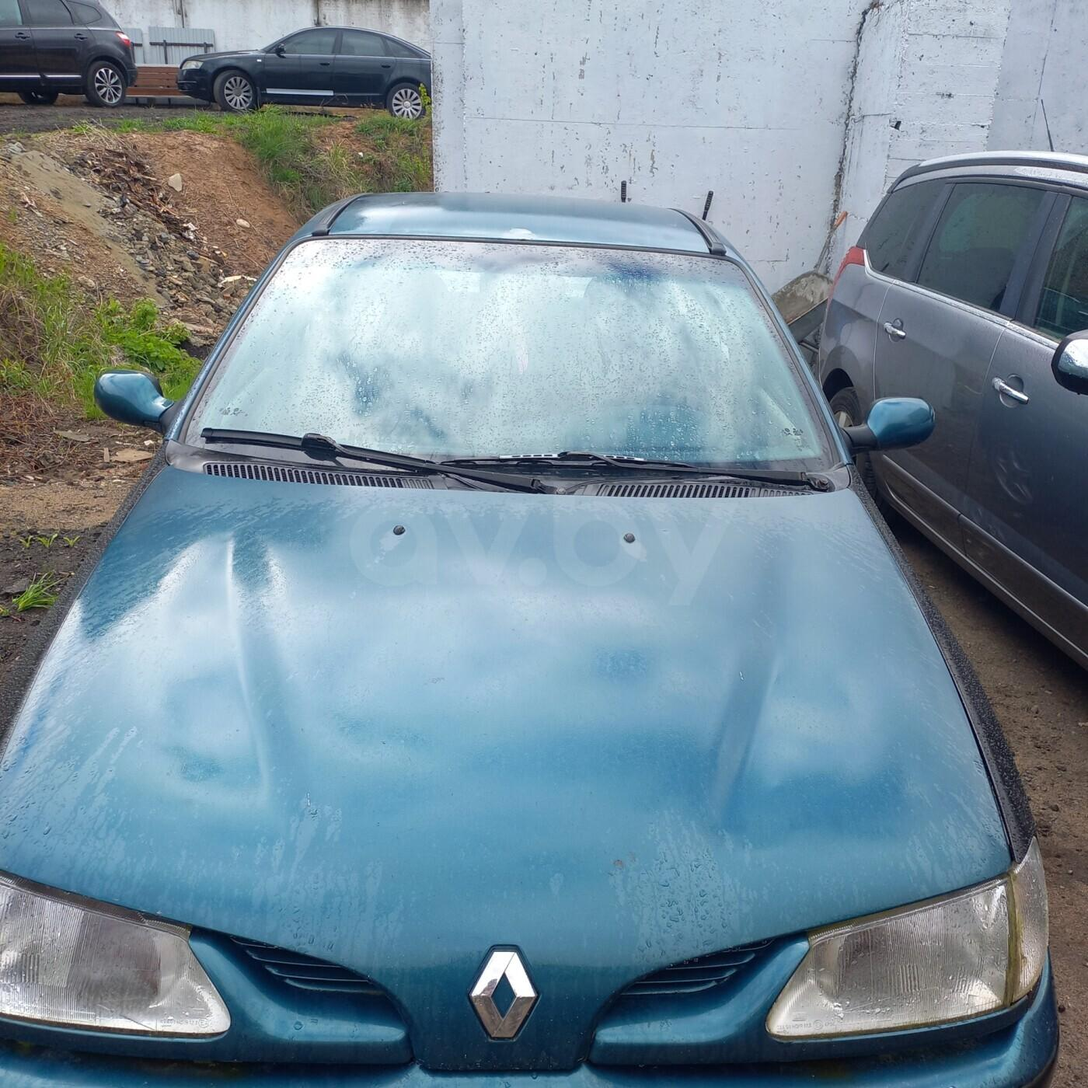Megane_1995-1999: (0, 193, 1037, 1088)
